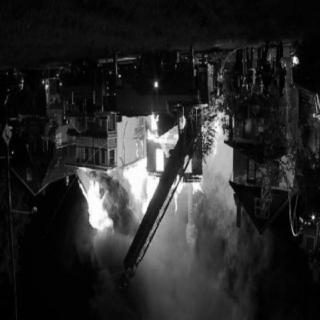Fire: (126, 111, 202, 229), (72, 172, 116, 242), (204, 112, 236, 170)
other: (39, 68, 63, 98), (150, 77, 166, 95)
